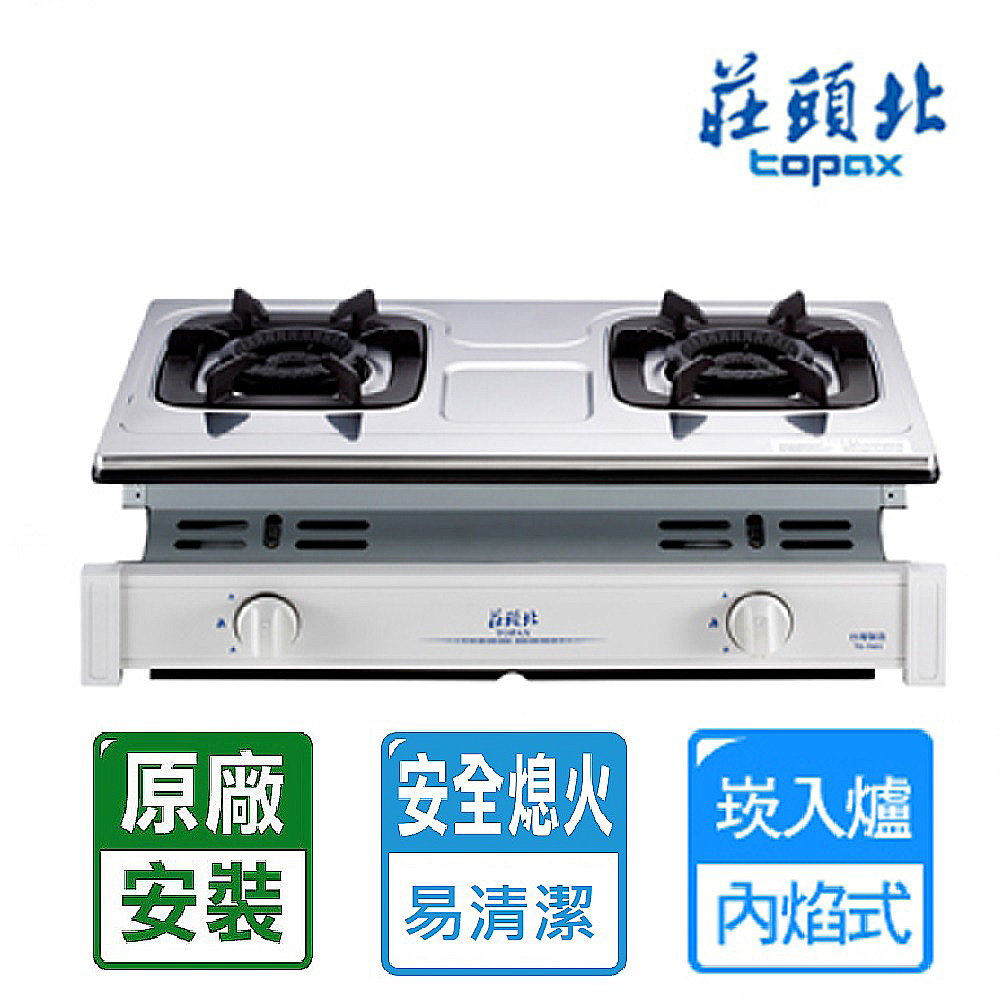gasoven: (75, 282, 957, 703)
